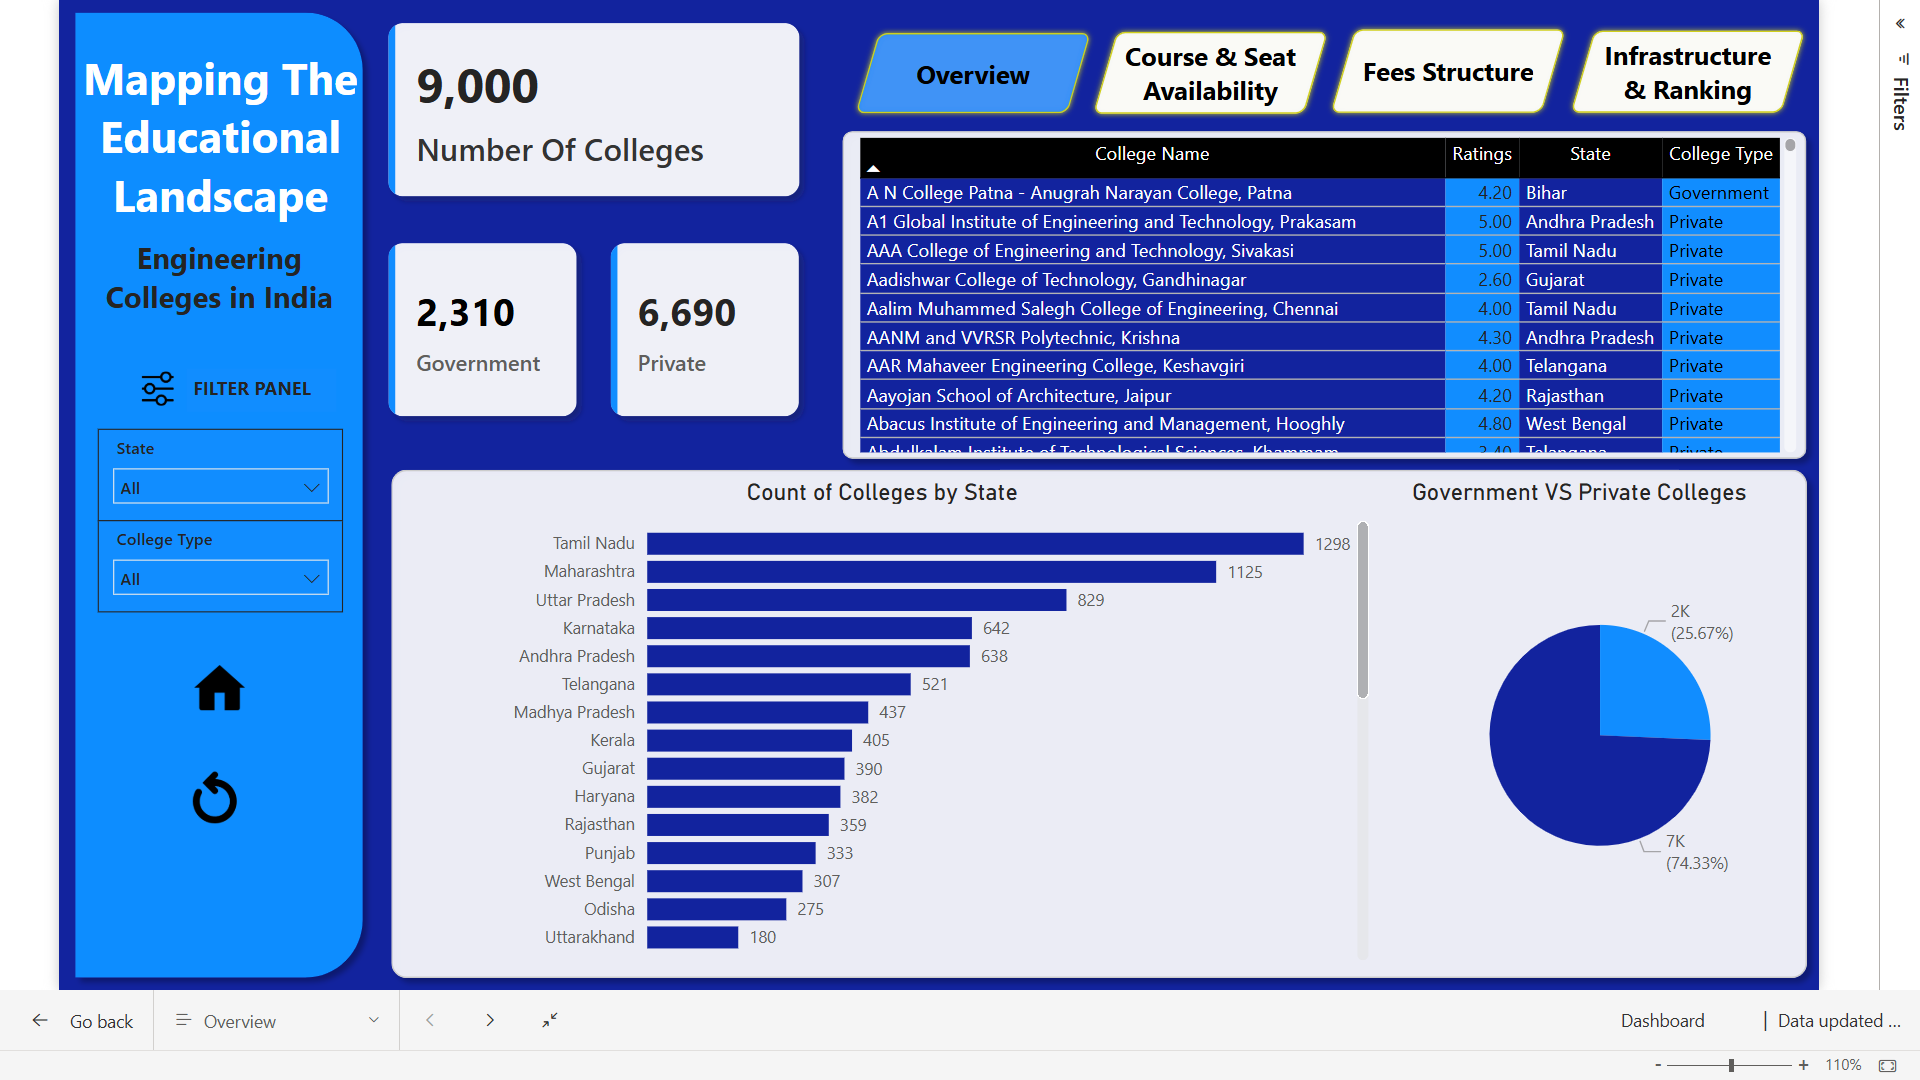

What the dashboard file says about the page in this screenshot:
{"tool":"powerbi","page":{"name":"Overview","canvas":[1280,720],"ordinal":0},"visuals":[{"type":"shape","box":[2.9,0,227.1,720],"z":0},{"type":"textbox","box":[4.3,30,225.7,147.1],"z":1000},{"type":"textbox","box":[24.3,167.1,184.3,82.9],"z":2000},{"type":"cardVisual","fields":{"Data":["College Detail.No of College"]},"box":[222.6,0,333.2,160],"z":3000},{"type":"slicer","fields":{"Values":["College Detail.College Type"]},"box":[28.6,378.6,178.6,67.1],"z":4000},{"type":"image","box":[55.7,265.7,32.9,34.3],"z":5000},{"type":"textbox","box":[92.9,268.6,108.6,31.4],"z":6000},{"type":"image","box":[90,471.2,53.8,58.8],"z":7000},{"type":"image","box":[91.2,556.2,45,47.5],"z":8000},{"type":"cardVisual","fields":{"Data":["College Detail.Govt. Colleges","College Detail.Private Colleges"]},"box":[222.6,160,333.2,160],"z":9000},{"type":"shape","box":[232.5,332.5,1047.5,387.5],"z":10000},{"type":"clusteredBarChart","title":"Count of Colleges by State","fields":{"Category":["College Detail.State"],"Y":["CountNonNull(College Detail.College Name)"]},"box":[240,347.5,717.5,356.2],"z":11000},{"type":"pieChart","title":"Government VS Private Colleges","fields":{"Y":["College Detail.Govt College","College Detail.Private College"]},"box":[978.8,347.5,283.8,356.2],"z":12000},{"type":"shape","box":[561.2,86.2,718.8,256.2],"z":13000},{"type":"tableEx","fields":{"Values":["College Detail.College Name","Sum(College Detail.Rating)","College Detail.State","College Detail.College Type"]},"box":[576.2,95,692.5,238.8],"z":14000},{"type":"slicer","fields":{"Values":["College Detail.State"]},"box":[28.6,311.4,178.6,67.1],"z":15000},{"type":"actionButton","box":[576.2,12.5,231.2,68.8],"z":16000},{"type":"actionButton","box":[805,12.5,231.2,68.8],"z":17000},{"type":"actionButton","box":[1031.2,11.2,231.2,68.8],"z":18000}]}

Visuals, with their boxes on the page's 1280x720 design canvas (x1, y1, x2, y2). These are canvas units, not pixel positions in the 1920x1080 screenshot, which may show the page scaled, cropped or inside an application window:
shape: region(3, 0, 230, 720)
textbox: region(4, 30, 230, 177)
textbox: region(24, 167, 209, 250)
cardVisual - College Detail.No of College: region(223, 0, 556, 160)
slicer - College Detail.College Type: region(29, 379, 207, 446)
image: region(56, 266, 89, 300)
textbox: region(93, 269, 202, 300)
image: region(90, 471, 144, 530)
image: region(91, 556, 136, 604)
cardVisual - College Detail.Govt. Colleges x College Detail.Private Colleges: region(223, 160, 556, 320)
shape: region(232, 332, 1280, 720)
"Count of Colleges by State" clusteredBarChart: region(240, 348, 958, 704)
"Government VS Private Colleges" pieChart: region(979, 348, 1263, 704)
shape: region(561, 86, 1280, 342)
tableEx - College Detail.College Name x Sum(College Detail.Rating): region(576, 95, 1269, 334)
slicer - College Detail.State: region(29, 311, 207, 378)
actionButton: region(576, 12, 807, 81)
actionButton: region(805, 12, 1036, 81)
actionButton: region(1031, 11, 1262, 80)
